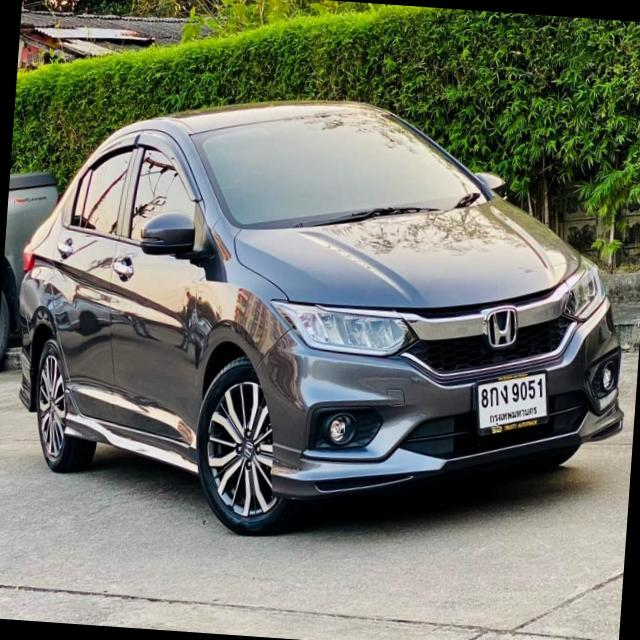license_plate: (466, 362, 556, 449)
